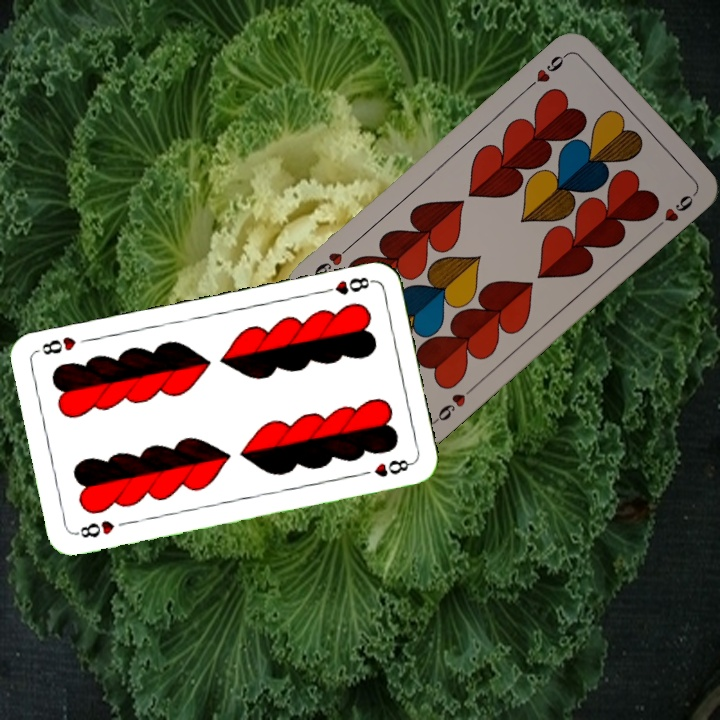H8: (317, 272, 376, 298), (71, 516, 117, 541)
H9: (524, 47, 573, 91), (430, 381, 478, 425)
